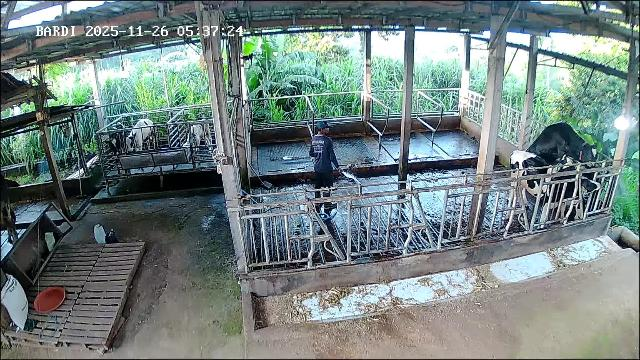mounting: (525, 122, 598, 168)
